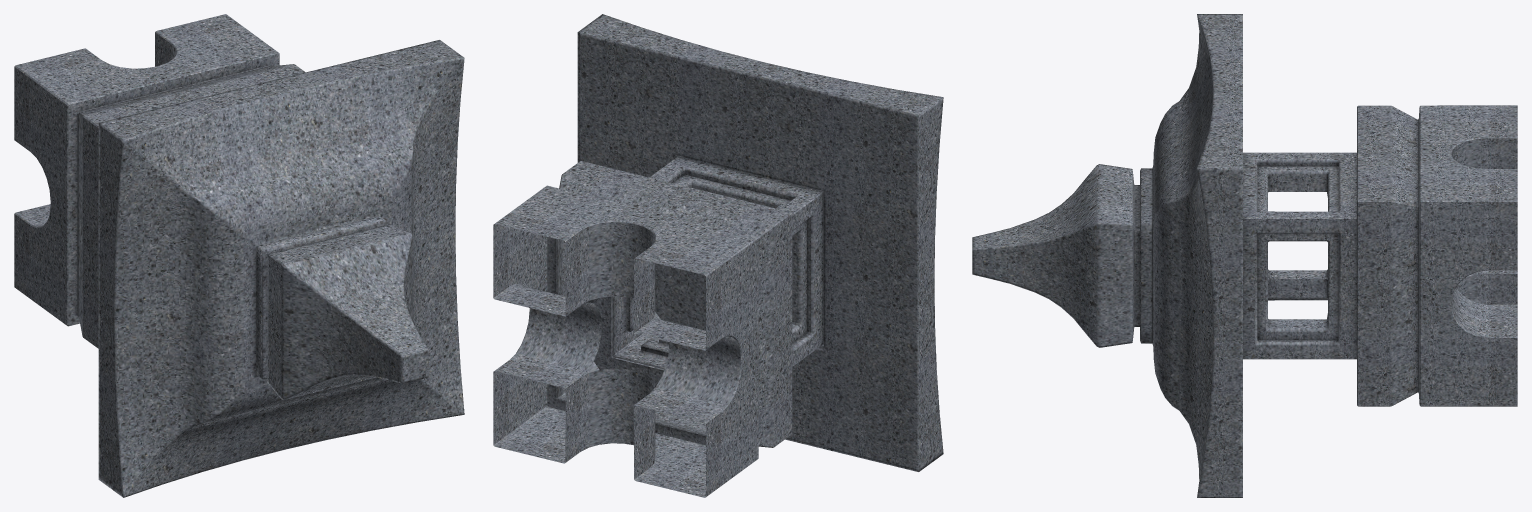
Rendered from Stone_Lantern_1.obj.
The picture shows the model from 3 angles, left to right: view 1: azimuth 30°, elevation 25°; view 2: azimuth 150°, elevation 25°; view 3: azimuth 270°, elevation 25°; orthographic projection. The views are drawn at different scales.
Visible parts, largest first — view 1: Stone_Lantern_1; view 2: Stone_Lantern_1; view 3: Stone_Lantern_1.
Boxes of the visible parts, x1,y1,x2,y2 form: Stone_Lantern_1: [14, 14, 464, 497]; Stone_Lantern_1: [493, 14, 943, 497]; Stone_Lantern_1: [972, 14, 1517, 497].
Bounding box in the file's own units: 24.18 × 24.18 × 36.22.
